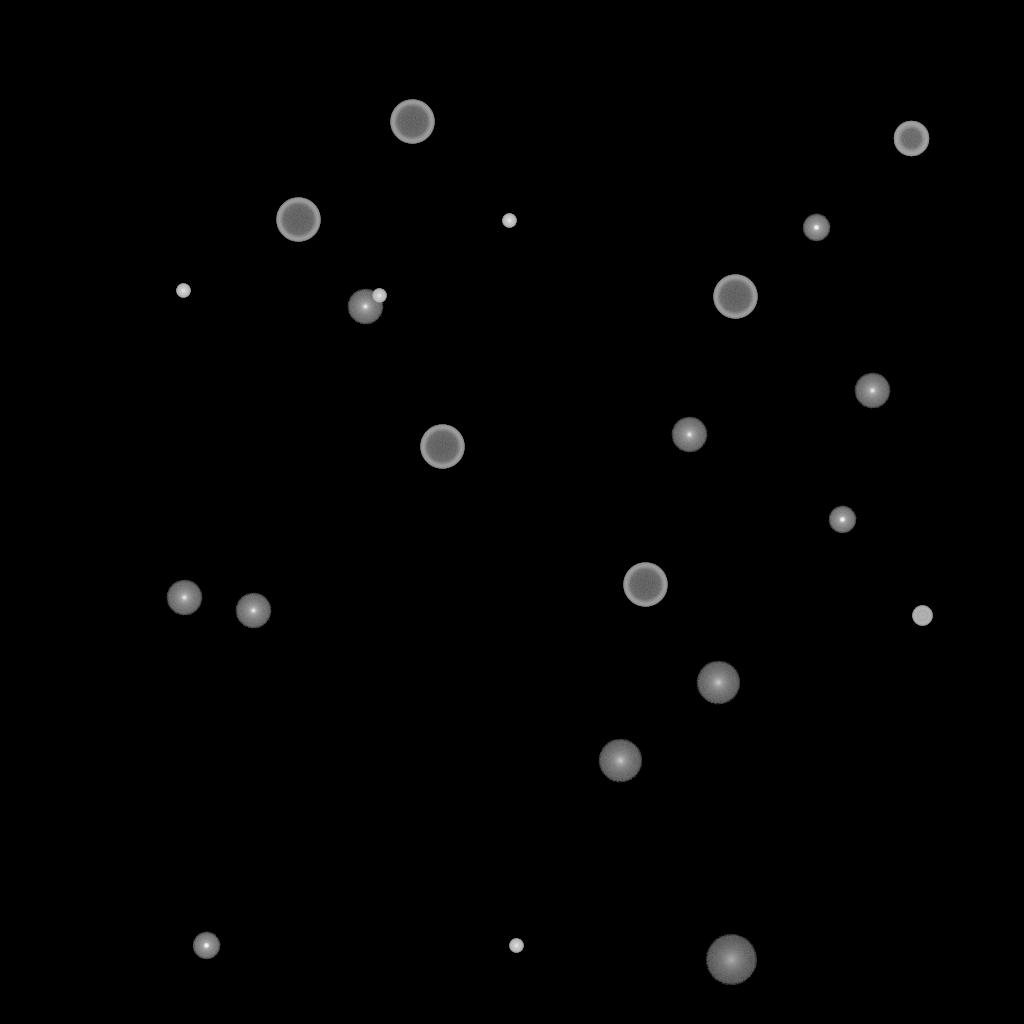depth:-10: (828, 506, 856, 534), (802, 214, 830, 242), (192, 932, 220, 960)
depth:-30: (176, 284, 190, 298), (509, 939, 523, 953), (502, 214, 516, 228), (372, 289, 386, 303)
depth:-40: (912, 606, 932, 626)
depth:-60: (893, 121, 929, 157)
depth:-70: (390, 100, 434, 144), (713, 275, 757, 319), (276, 198, 320, 242), (420, 425, 464, 469), (623, 563, 667, 607)
depth:0: (854, 373, 890, 409), (235, 593, 271, 629), (166, 580, 202, 616), (671, 417, 707, 453), (347, 289, 383, 325)
depth:10: (696, 661, 740, 705), (598, 739, 642, 783)
depth:20: (705, 935, 757, 985)
